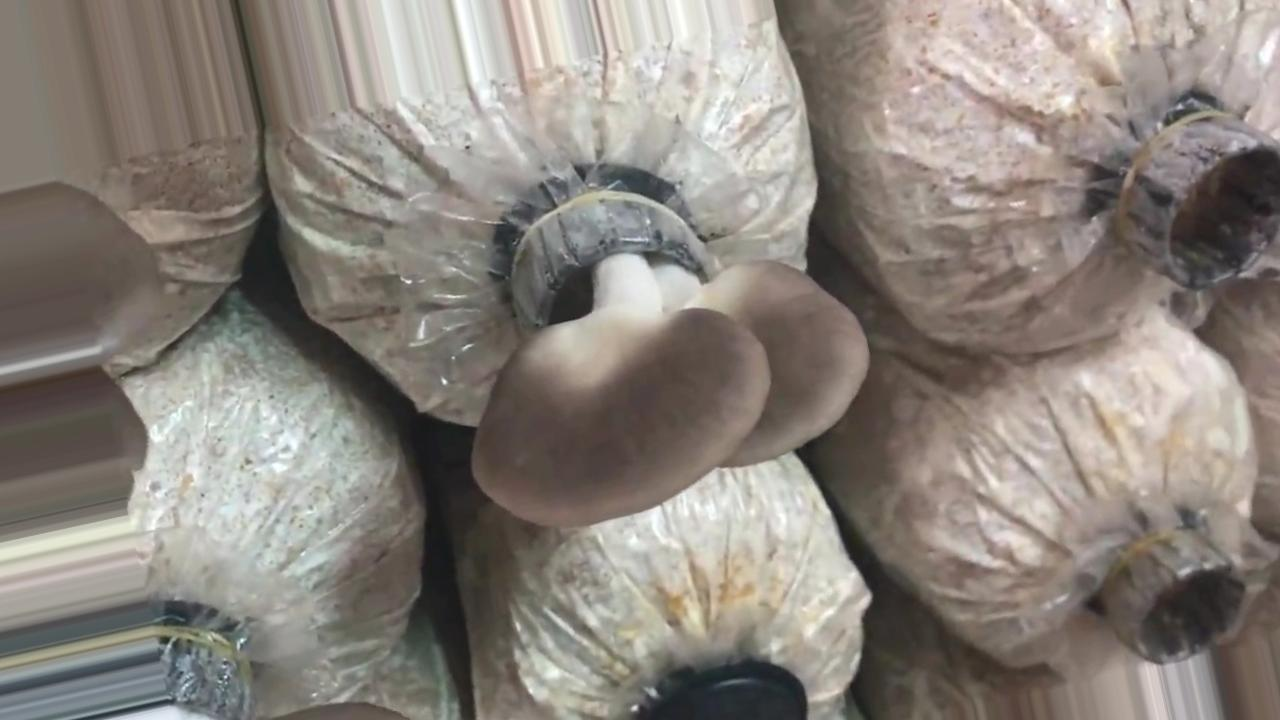nam: (468, 173, 868, 527)
